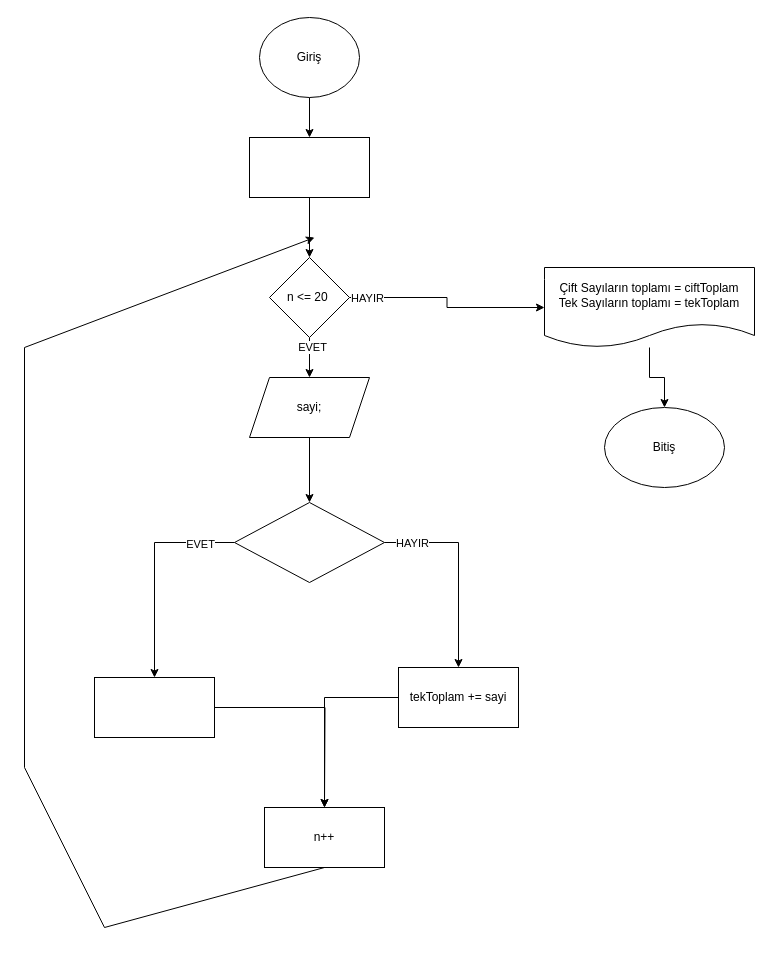
Image size: 772x953. Some labels were removed from this diagram. Each missing label, with the box of its shape:
ciftToplam += sayi: (94, 676, 214, 738)
ciftToplam = 0 tekToplam = 0 n = 1: (248, 136, 370, 198)
sayi % 2 === 0: (234, 502, 384, 582)
